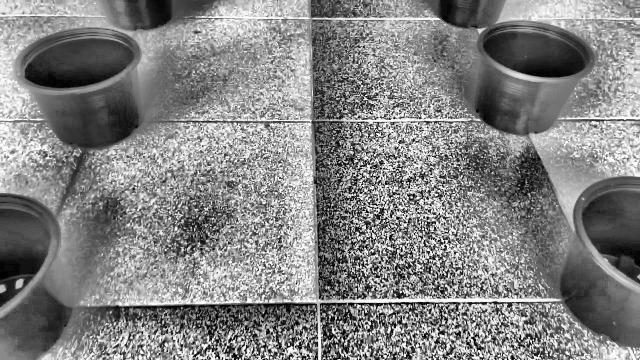pot: (12, 28, 143, 149), (473, 21, 596, 135), (558, 178, 640, 348), (0, 194, 74, 360)
